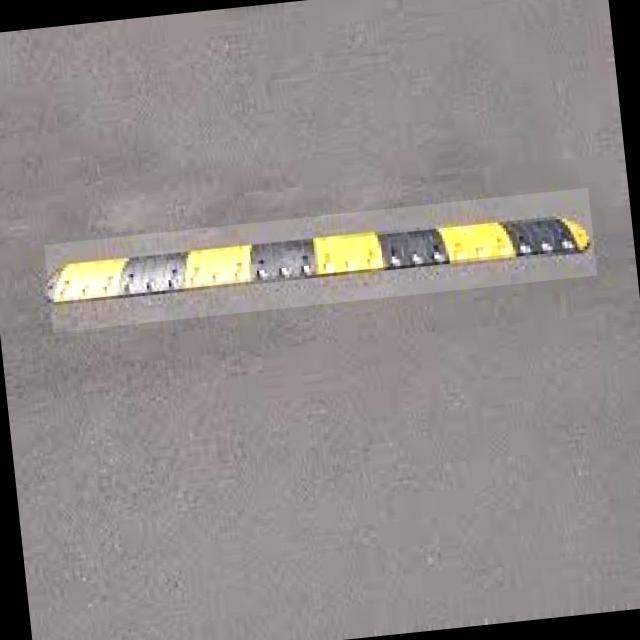bump: (44, 188, 596, 332)
